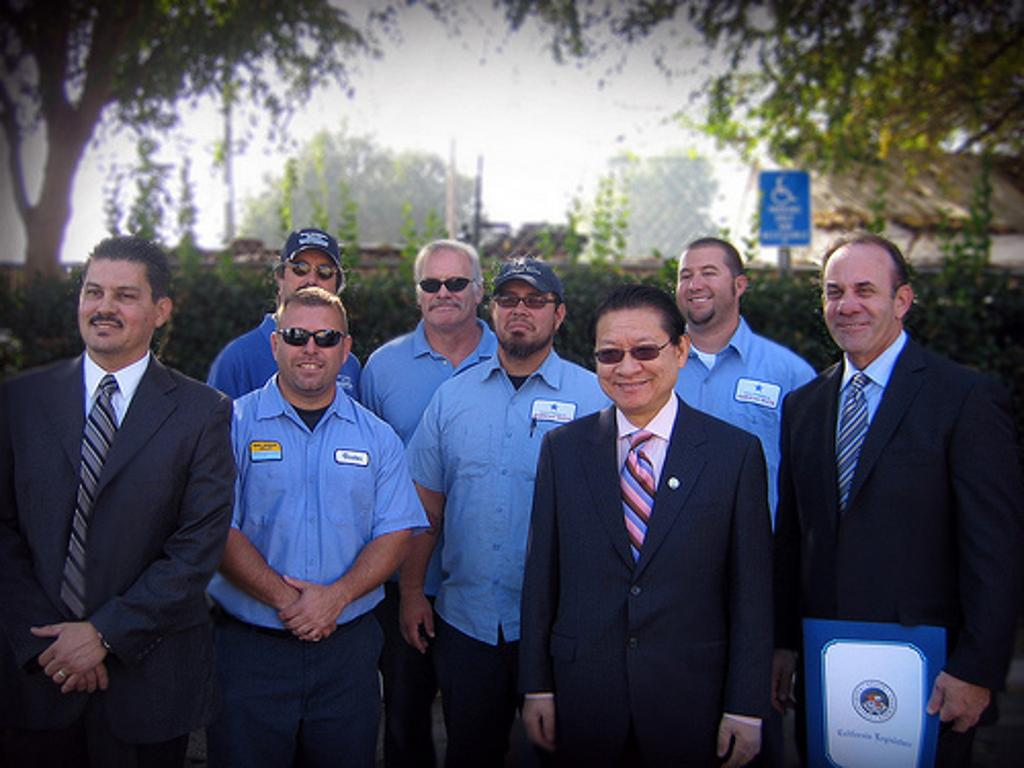face: (594, 305, 674, 409), (823, 241, 893, 352), (78, 257, 155, 351), (278, 301, 343, 390), (492, 278, 554, 355), (675, 245, 733, 323), (419, 247, 473, 326), (283, 249, 337, 307)
